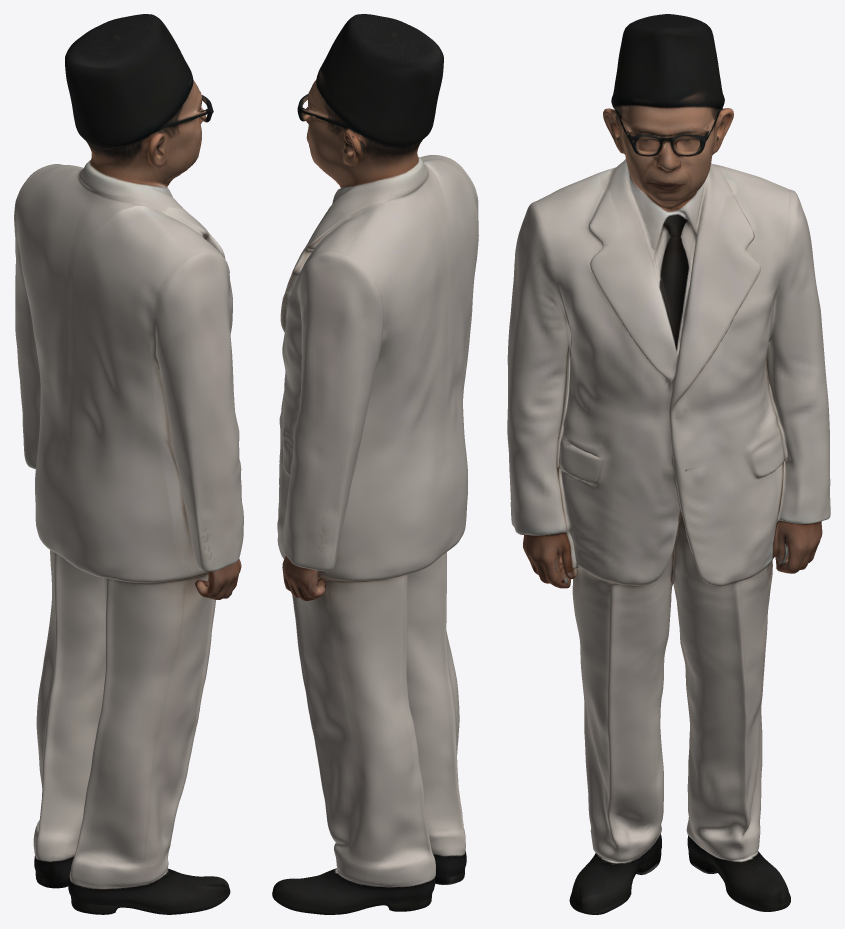
Rendered from KI HADJAR DEWANTARA.glb.
The picture shows the model from 3 angles, left to right: view 1: azimuth 30°, elevation 25°; view 2: azimuth 150°, elevation 25°; view 3: azimuth 270°, elevation 25°; orthographic projection. The views are drawn at different scales.
Parts seen in each view (by area): view 1: tripo_node_a4ccd995; view 2: tripo_node_a4ccd995; view 3: tripo_node_a4ccd995.
Boxes of the visible parts, x1=… form: tripo_node_a4ccd995: x1=14, y1=14, x2=243, y2=914; tripo_node_a4ccd995: x1=272, y1=14, x2=478, y2=914; tripo_node_a4ccd995: x1=507, y1=14, x2=830, y2=914.
Size of the model in its own units: 19.72 by 98.01 by 32.89.
Materials: 1 (1 with a texture image).
